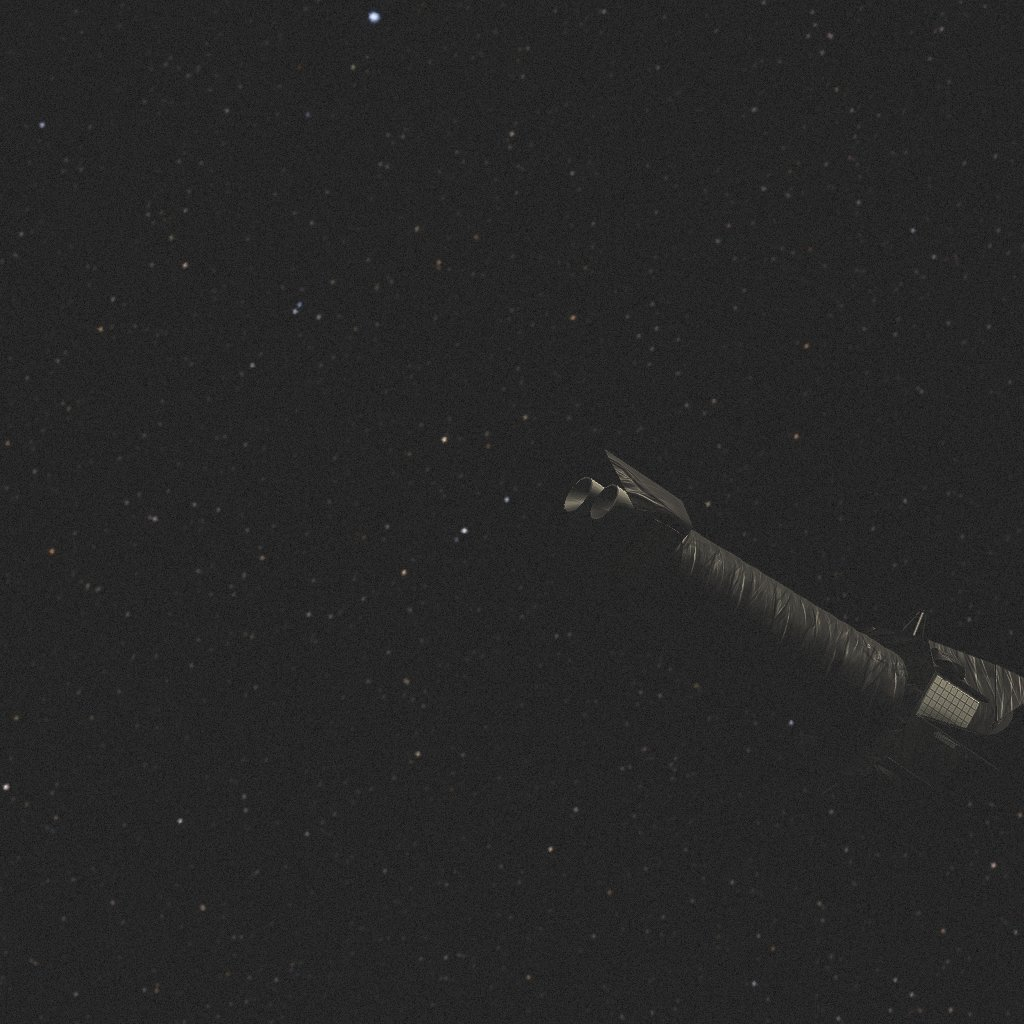xmm_newton: (553, 439, 1024, 807)
